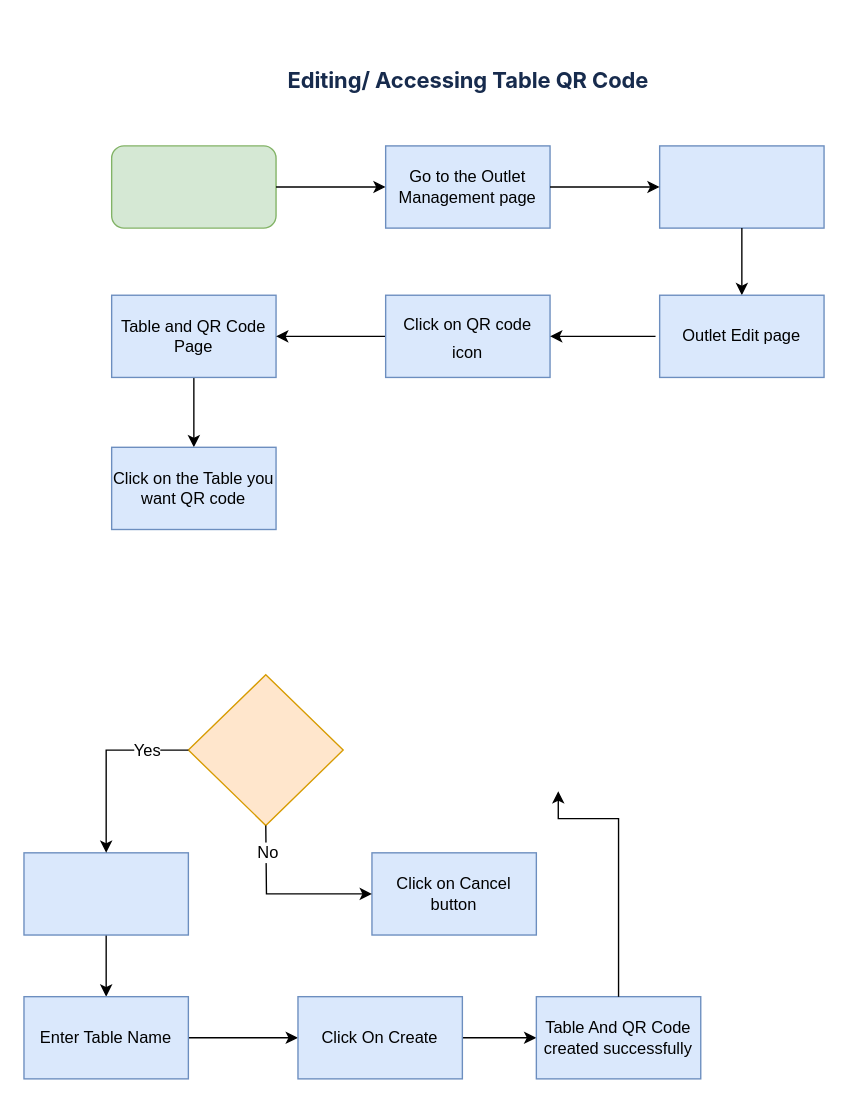
Some shapes in this 848 by 1103 pixel diagram are drawn without their labels. The shapes that lost their labels are listed below. From the top down, each one's centre as x and y in pixels, then its label:
point 193,186: Login into the admin panel
point 741,186: Click on outlet you want to add table
point 265,749: Want to create a new table?
point 105,893: Click on Add New Table button
